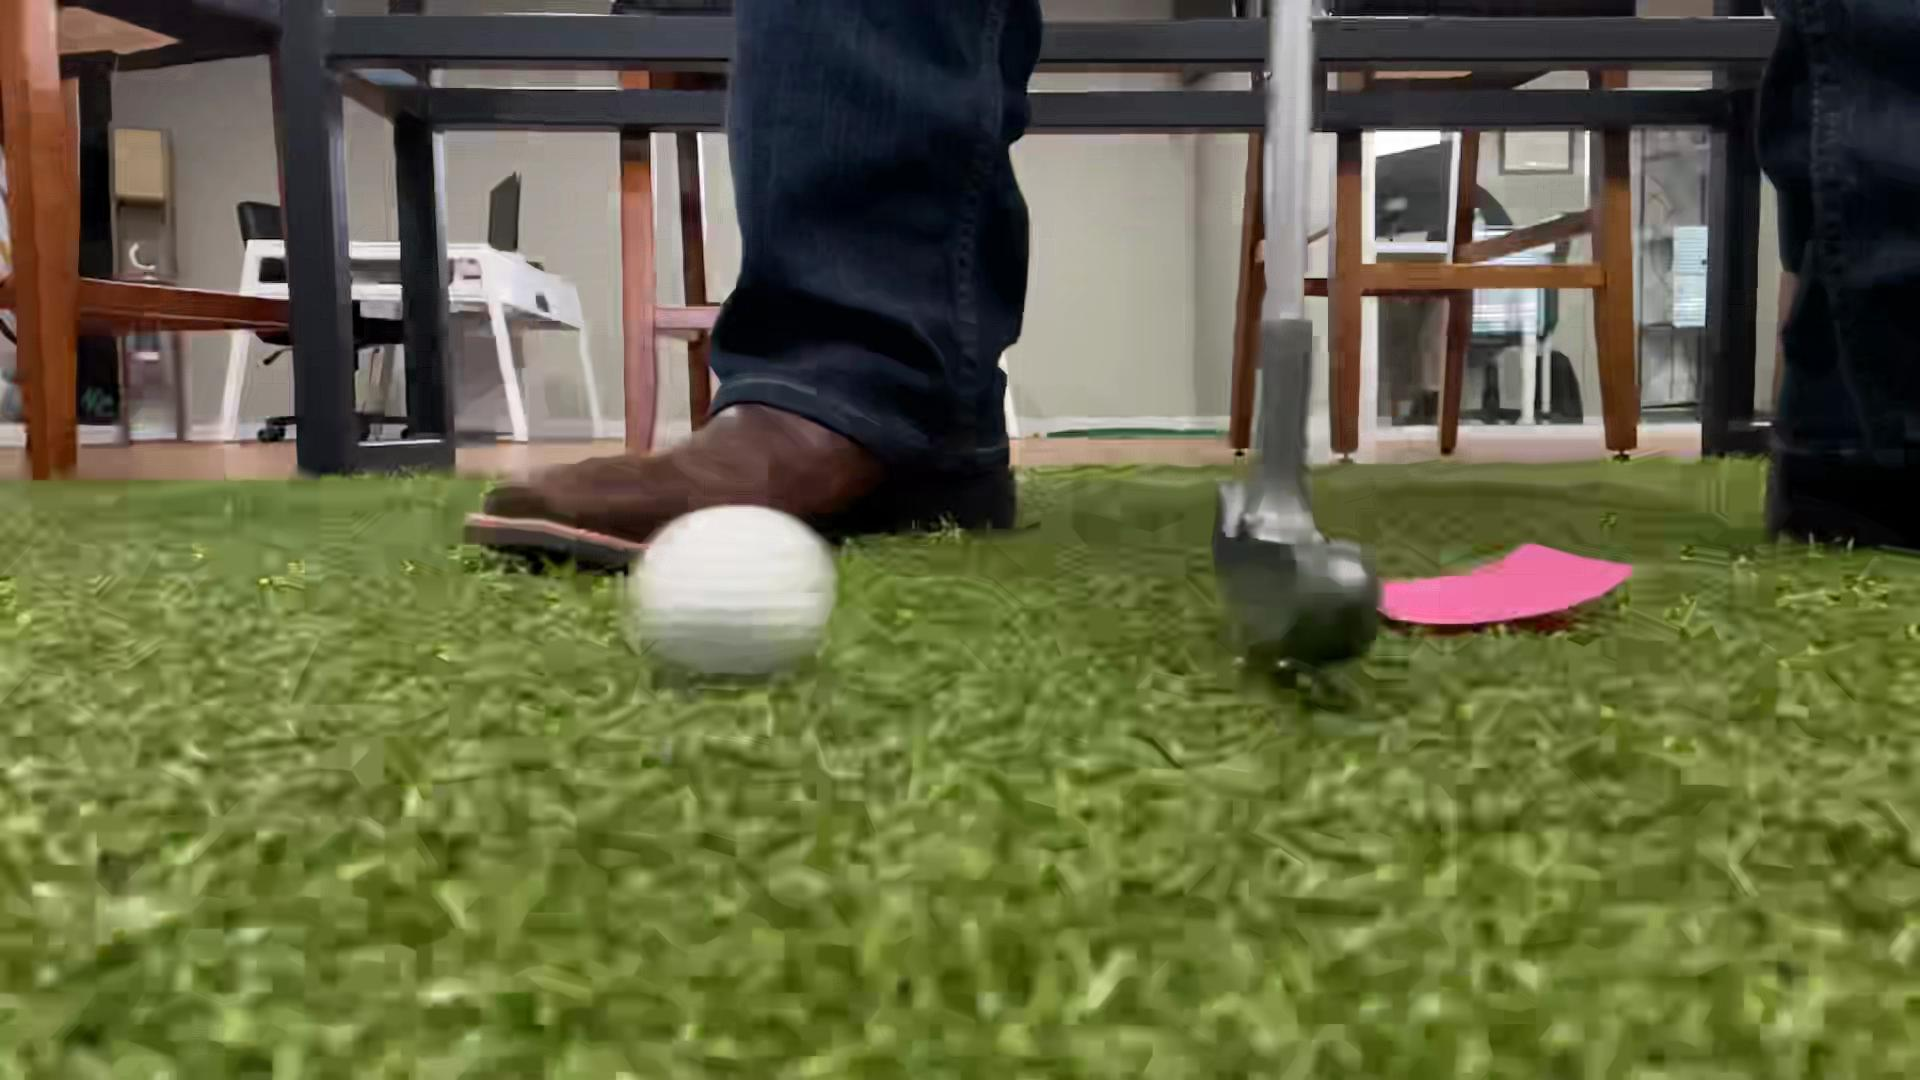golfball: (628, 506, 836, 683)
